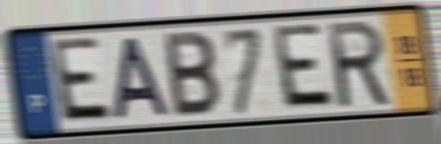7: (222, 25, 264, 117)
A: (111, 35, 174, 122)
B: (161, 29, 222, 121)
E: (272, 20, 339, 112), (49, 34, 116, 126)
R: (324, 17, 394, 112)
